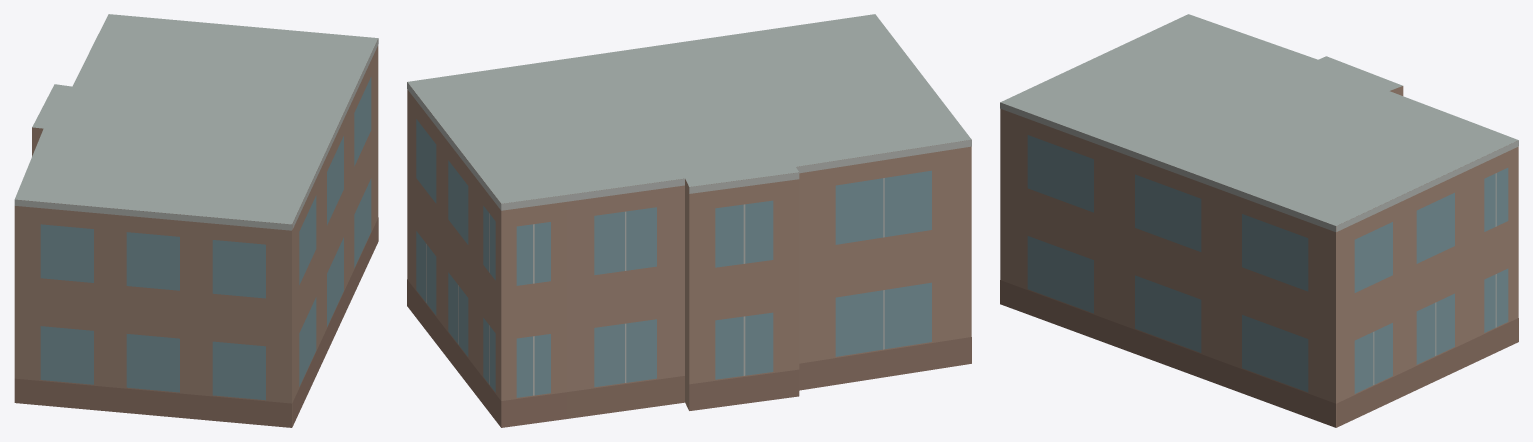
File: survey-upis-32625101.glb
3 renders of one model, left to right at view 1: azimuth 30°, elevation 25°; view 2: azimuth 150°, elevation 25°; view 3: azimuth 270°, elevation 25°, orthographic. The views are drawn at different scales.
Visible parts, largest first — view 1: survey-upis-32625101.tmp; view 2: survey-upis-32625101.tmp; view 3: survey-upis-32625101.tmp.
Part boxes in pixels (left/top/right/bottom): survey-upis-32625101.tmp: left=14, top=14, right=378, bottom=427; survey-upis-32625101.tmp: left=407, top=14, right=971, bottom=427; survey-upis-32625101.tmp: left=1000, top=14, right=1518, bottom=427.
Bounding box in the file's own units: 17.82 × 7.9 × 18.41.
